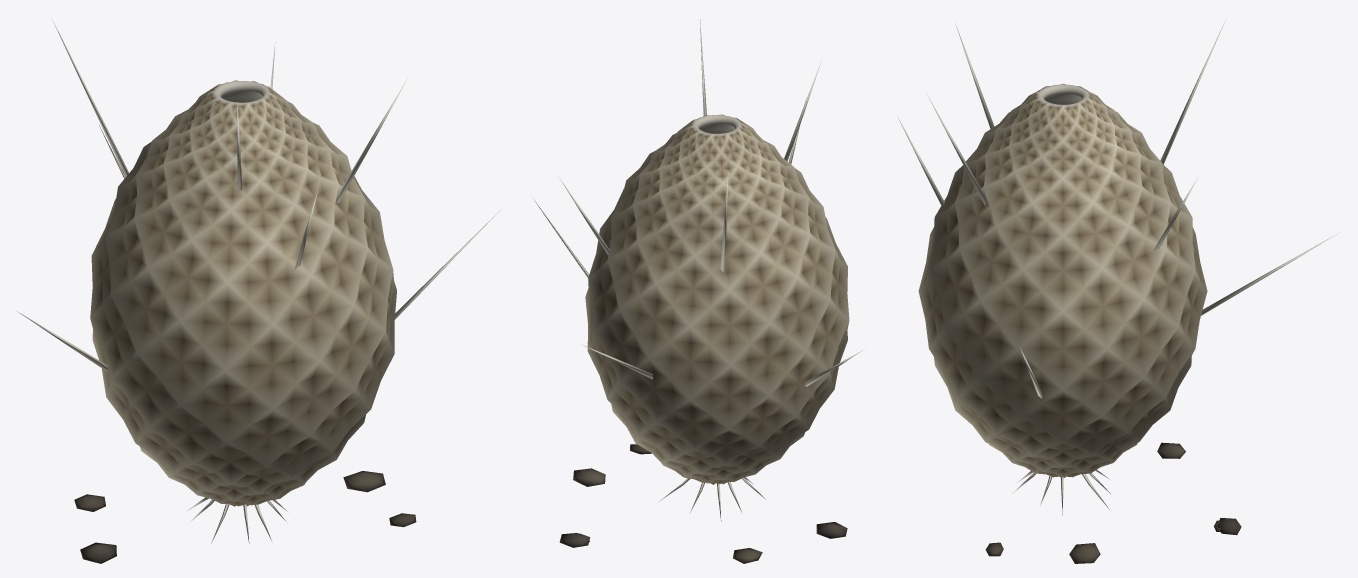
Rendered from Triticispongia.fbx.
3 renders of one model, left to right at view 1: azimuth 30°, elevation 25°; view 2: azimuth 150°, elevation 25°; view 3: azimuth 270°, elevation 25°, orthographic. The views are drawn at different scales.
Visible parts, largest first — view 1: Triticispongia; view 2: Triticispongia; view 3: Triticispongia.
Part boxes in pixels (bbox=[...]): Triticispongia: bbox=[17, 19, 501, 563]; Triticispongia: bbox=[534, 19, 865, 563]; Triticispongia: bbox=[897, 18, 1339, 563].
Bounding box in the file's own units: 1.17 × 1.25 × 1.12.
